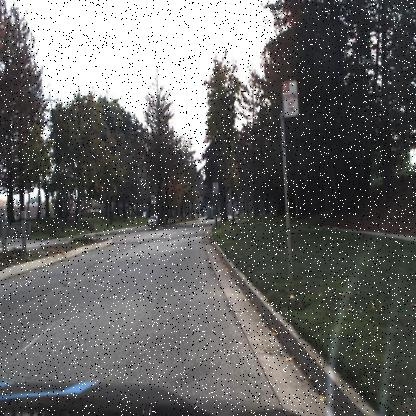car: (145, 210, 159, 229)
